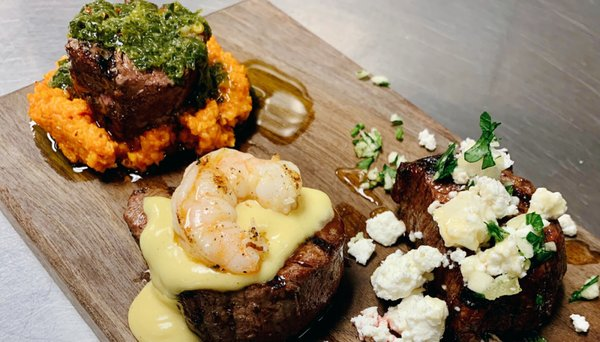soup: (123, 147, 360, 339)
